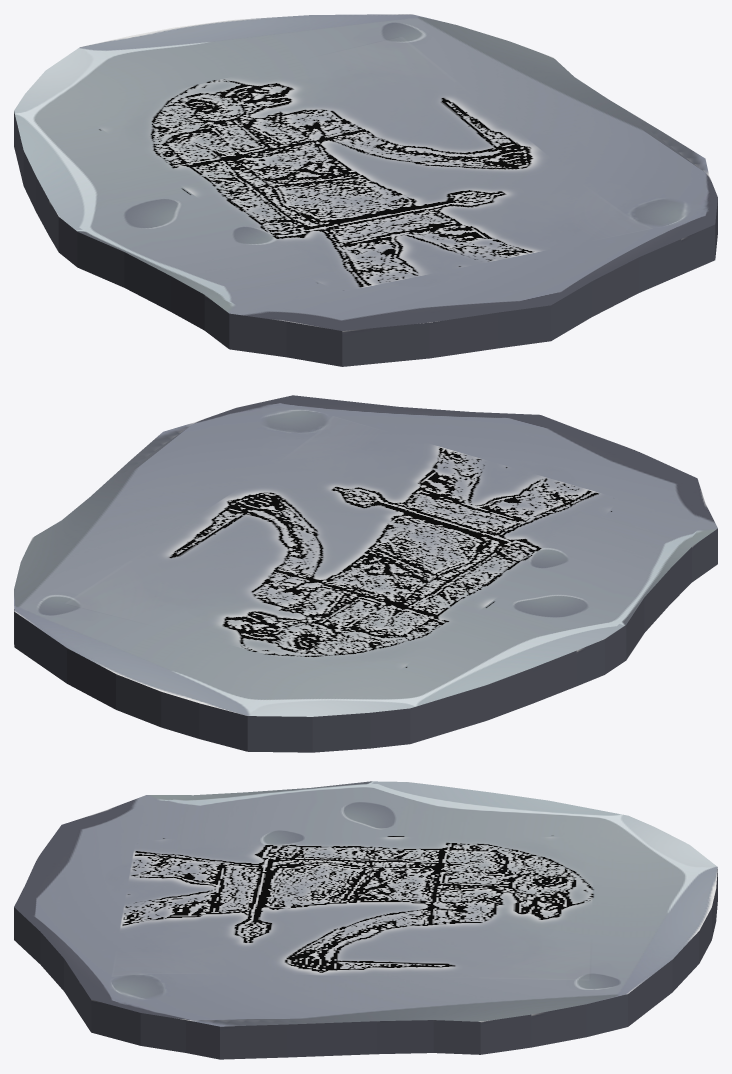
File: runeBabiBlack.glb
3 views of the same model, one above another, from view 1: azimuth 30°, elevation 25°; view 2: azimuth 150°, elevation 25°; view 3: azimuth 270°, elevation 25° (orthographic). The views are drawn at different scales.
Parts seen in each view (by area): view 1: rune; view 2: rune; view 3: rune.
Boxes of the visible parts, <box> form: rune: <box>14,14,717,366</box>; rune: <box>14,395,717,752</box>; rune: <box>14,781,717,1059</box>.
Bounding box in the file's own units: 0.8115 × 0.0509 × 0.9844.
1 material, 1 textured.
